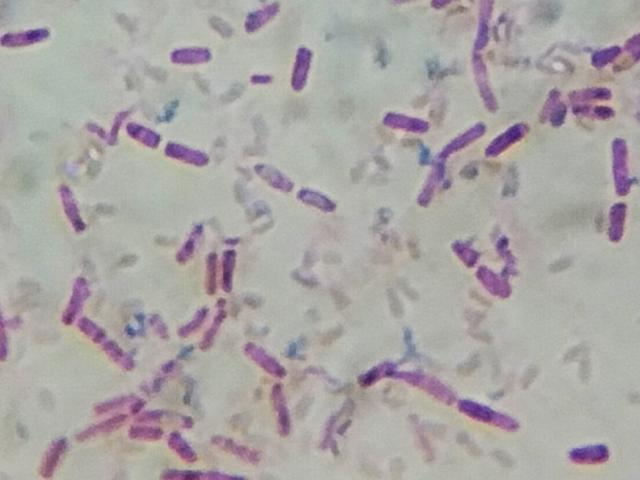E. coli: (470, 4, 505, 108), (76, 313, 132, 377), (587, 26, 639, 74), (456, 398, 523, 430), (0, 17, 55, 54), (416, 157, 451, 212), (262, 382, 296, 437), (152, 460, 243, 480), (59, 176, 90, 232), (163, 136, 215, 169), (440, 115, 485, 152), (116, 119, 166, 152), (489, 123, 531, 160), (242, 0, 289, 33), (299, 182, 341, 218), (212, 431, 264, 460), (356, 356, 400, 390), (291, 39, 318, 94), (403, 368, 448, 401), (448, 234, 484, 272), (603, 198, 632, 245), (135, 403, 198, 424), (569, 432, 607, 465), (248, 339, 281, 375), (56, 273, 88, 310), (612, 132, 632, 191), (172, 41, 217, 67), (201, 245, 223, 298), (42, 432, 66, 478), (382, 107, 420, 136), (172, 220, 200, 259), (477, 266, 507, 301), (176, 300, 204, 335), (221, 242, 240, 293), (256, 156, 287, 187), (81, 417, 124, 437), (205, 302, 226, 342), (93, 390, 135, 410), (167, 430, 191, 465), (0, 321, 16, 367), (126, 424, 162, 444), (252, 69, 281, 93), (573, 102, 609, 121), (572, 84, 609, 102), (541, 84, 554, 126), (555, 98, 570, 132), (431, 0, 448, 19)
